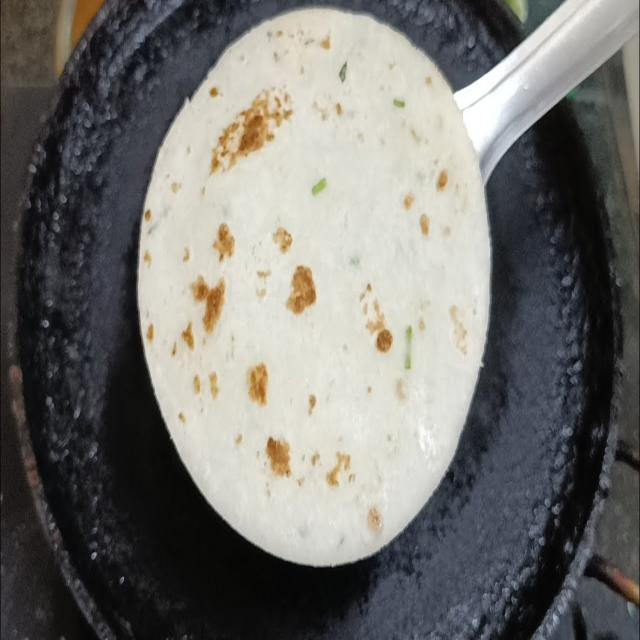DOSA: (132, 12, 497, 566)
